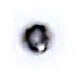cancer: (2, 5, 71, 68)
